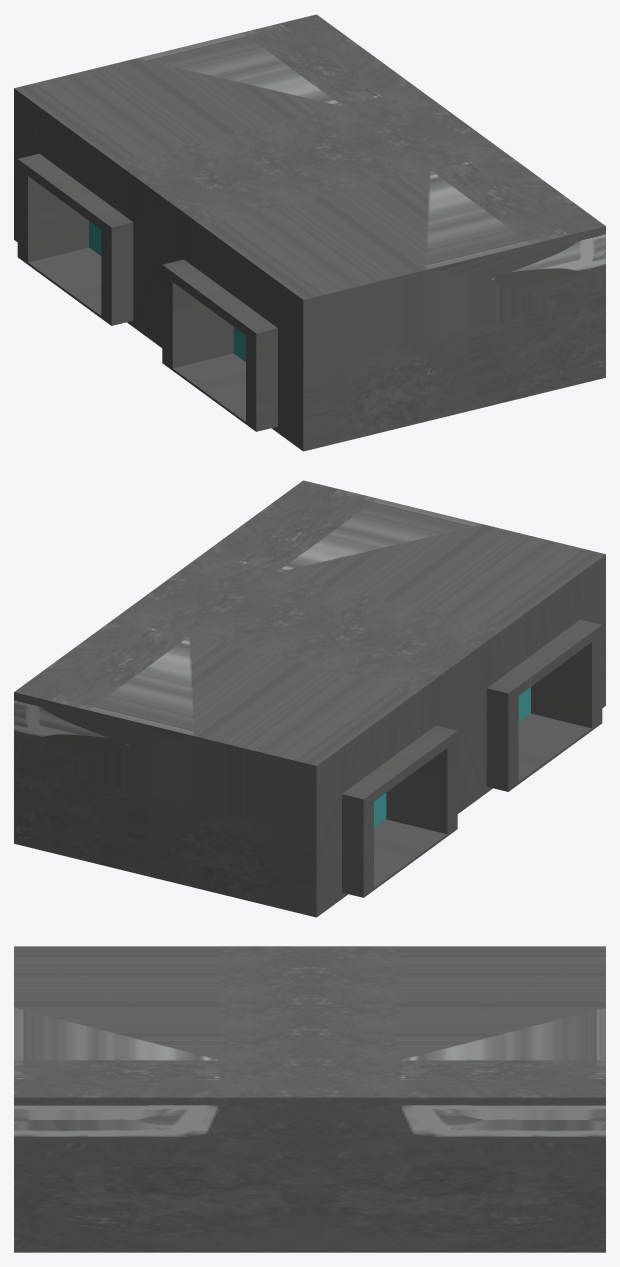
The model's file is edificio mini.fbx.
The picture shows the model from 3 angles, top to bottom: view 1: azimuth 30°, elevation 25°; view 2: azimuth 150°, elevation 25°; view 3: azimuth 270°, elevation 25°; orthographic projection. The views are drawn at different scales.
Visible parts, largest first — view 1: Cube.001; view 2: Cube.001; view 3: Cube.001.
Part boxes in pixels (box(x1,y1,x2,y2)): Cube.001: box(14, 14, 605, 451); Cube.001: box(14, 480, 605, 917); Cube.001: box(14, 946, 605, 1252).
Bounding box in the file's own units: 448 × 200 × 692.
Materials: 2 (1 with a texture image).
